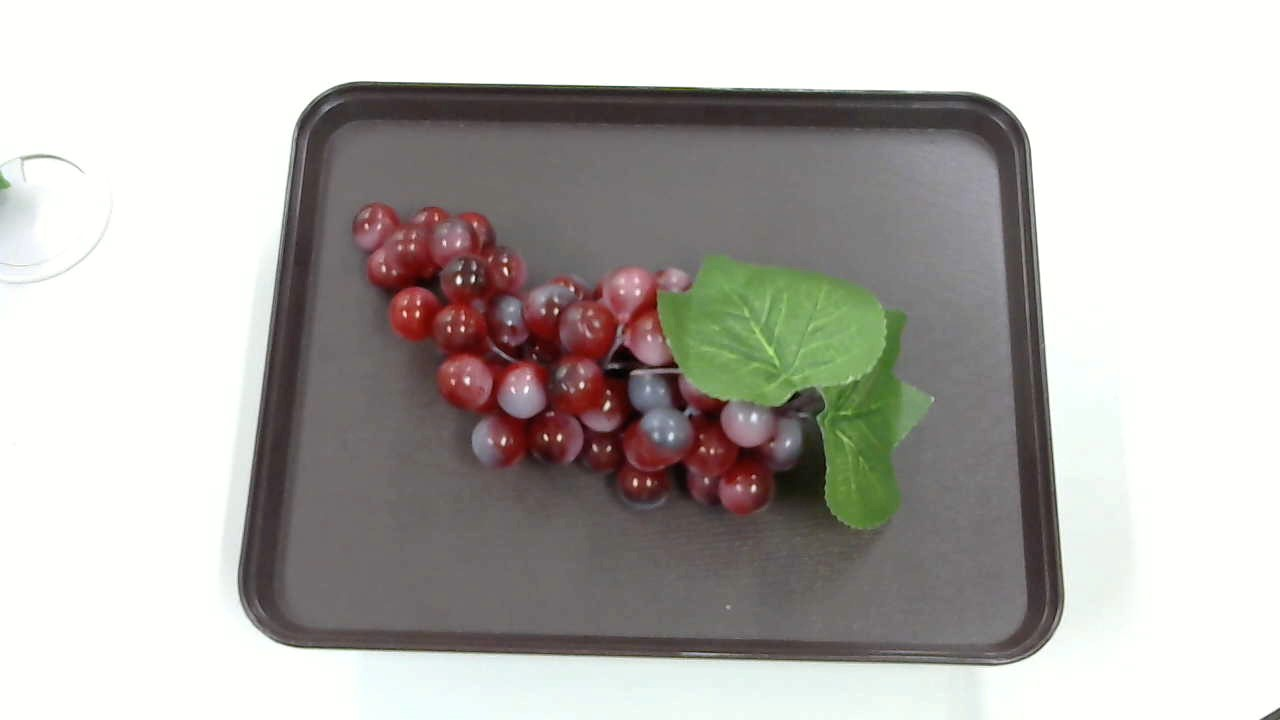grape: (339, 188, 946, 556)
